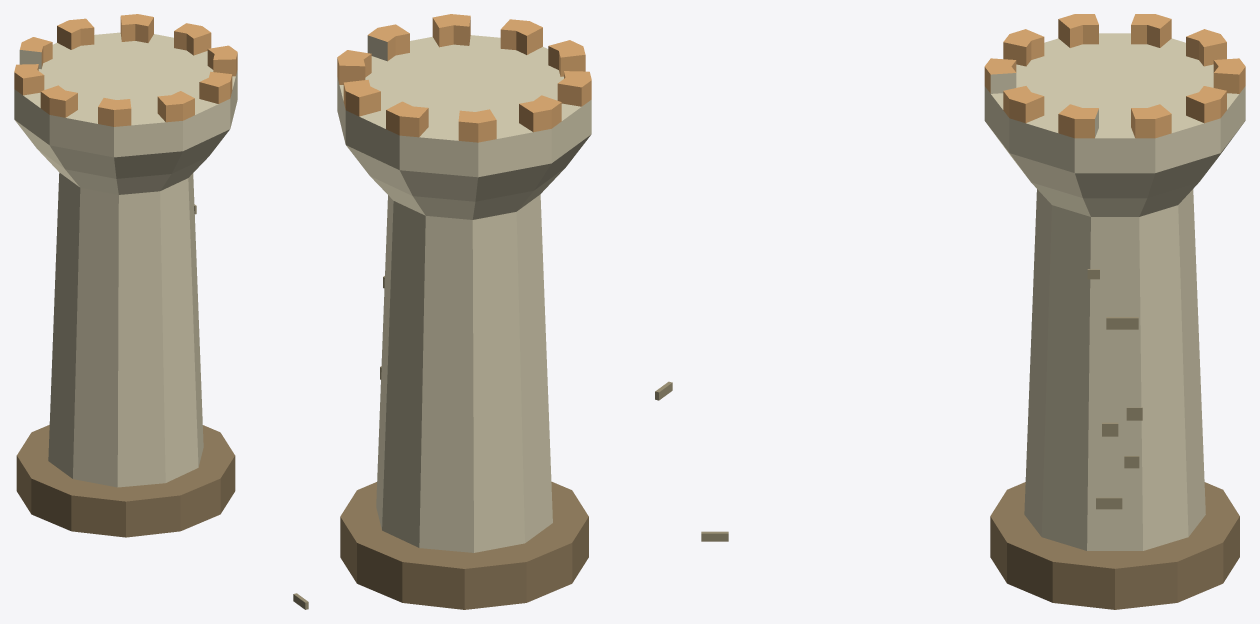
Rendered from TowerV1.fbx.
3 renders of one model, left to right at view 1: azimuth 30°, elevation 25°; view 2: azimuth 150°, elevation 25°; view 3: azimuth 270°, elevation 25°, orthographic. The views are drawn at different scales.
Visible parts, largest first — view 1: Tower, TowerBase; view 2: Tower, TowerBase; view 3: Tower, TowerBase.
Part boxes in pixels (x1,y1,x2,y2): Tower: (14, 14, 237, 487); TowerBase: (16, 425, 235, 537); Tower: (337, 14, 591, 552); TowerBase: (340, 481, 588, 609); Tower: (984, 14, 1245, 550); TowerBase: (990, 482, 1239, 609).
Size of the model in its own units: 1100 by 2387 by 2400.
